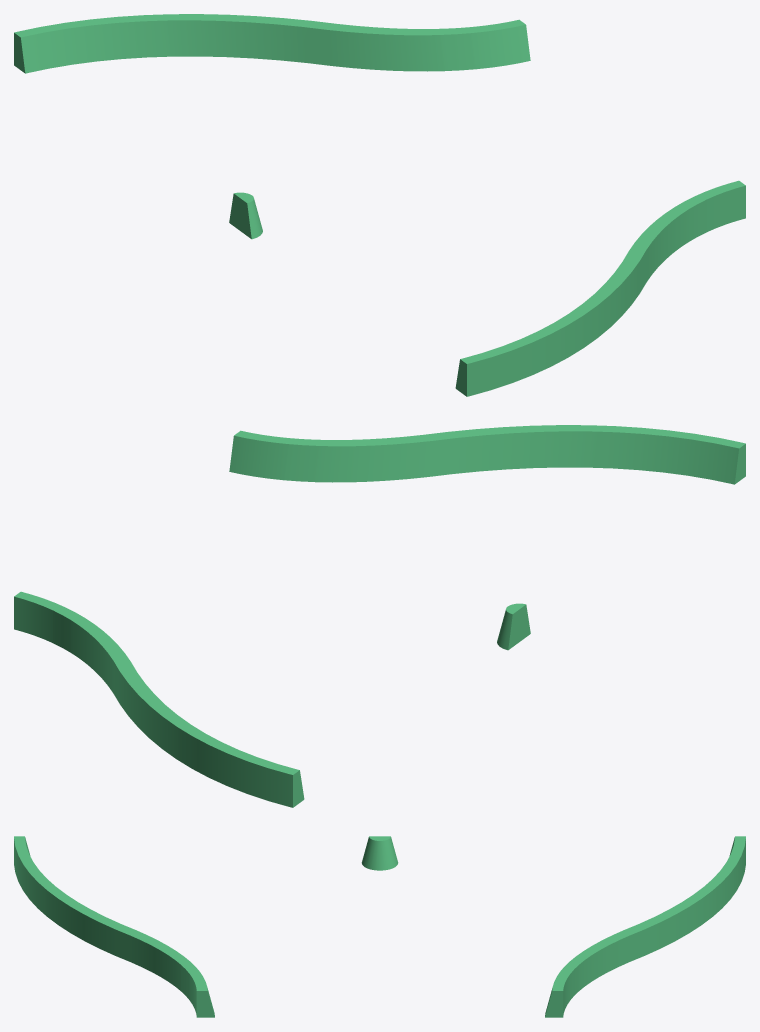
The model's file is road_split_barrier.glb.
3 renders of one model, top to bottom at view 1: azimuth 30°, elevation 25°; view 2: azimuth 150°, elevation 25°; view 3: azimuth 270°, elevation 25°, orthographic. The views are drawn at different scales.
Visible parts, largest first — view 1: road-split-barrier; view 2: road-split-barrier; view 3: road-split-barrier.
Boxes of the visible parts, x1,y1,x2,y2 form: road-split-barrier: (14, 14, 745, 396); road-split-barrier: (14, 425, 745, 807); road-split-barrier: (14, 836, 745, 1017).
Bounding box in the file's own units: 1 × 0.08 × 2.
Materials: 1 (1 with a texture image).
